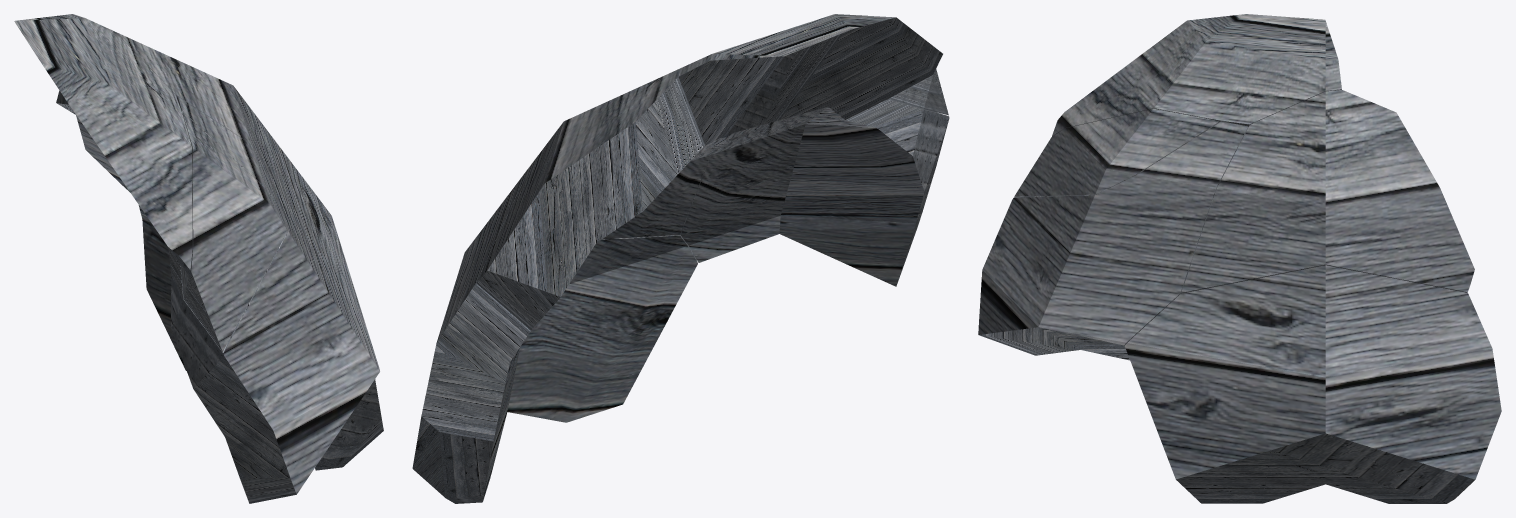
Rendered from Fracture008.dae.
3 renders of one model, left to right at view 1: azimuth 30°, elevation 25°; view 2: azimuth 150°, elevation 25°; view 3: azimuth 270°, elevation 25°, orthographic. The views are drawn at different scales.
Visible parts, largest first — view 1: Sphere_001_cell_027; view 2: Sphere_001_cell_027; view 3: Sphere_001_cell_027.
Boxes of the visible parts, left/top/right/bottom form: Sphere_001_cell_027: left=14, top=14, right=383, bottom=503; Sphere_001_cell_027: left=412, top=14, right=949, bottom=503; Sphere_001_cell_027: left=978, top=14, right=1501, bottom=503.
Bounding box in the file's own units: 0.9319 × 1.41 × 1.13.
